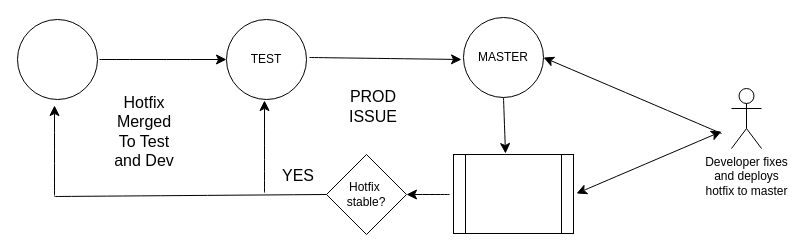
Some shapes in this 805 by 252 pixel diagram are drawn without their labels. The shapes that lost their labels are listed below. From the top down, each one's centre as x and y in pixels, then its label:
At [57,59]: "DEV".
At [513,194]: "ONLY In case of production issue new HOTFIX branch pulled from master".
